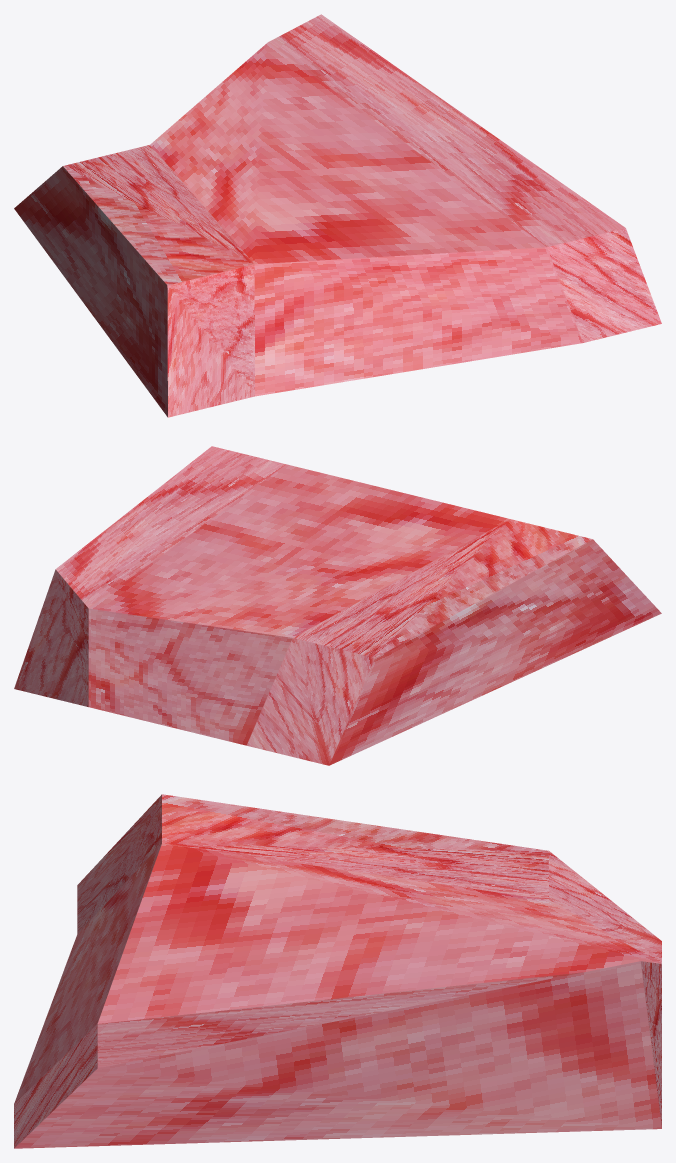
File: meat.glb
3 renders of one model, top to bottom at view 1: azimuth 30°, elevation 25°; view 2: azimuth 150°, elevation 25°; view 3: azimuth 270°, elevation 25°, orthographic. The views are drawn at different scales.
Parts seen in each view (by area): view 1: meat; view 2: meat; view 3: meat.
Part boxes in pixels (left/top/right/bottom): meat: left=14, top=14, right=661, bottom=417; meat: left=14, top=446, right=661, bottom=765; meat: left=14, top=794, right=661, bottom=1148.
Size of the model in its own units: 0.4161 by 0.1092 by 0.4327.
Materials: 1 (1 with a texture image).
